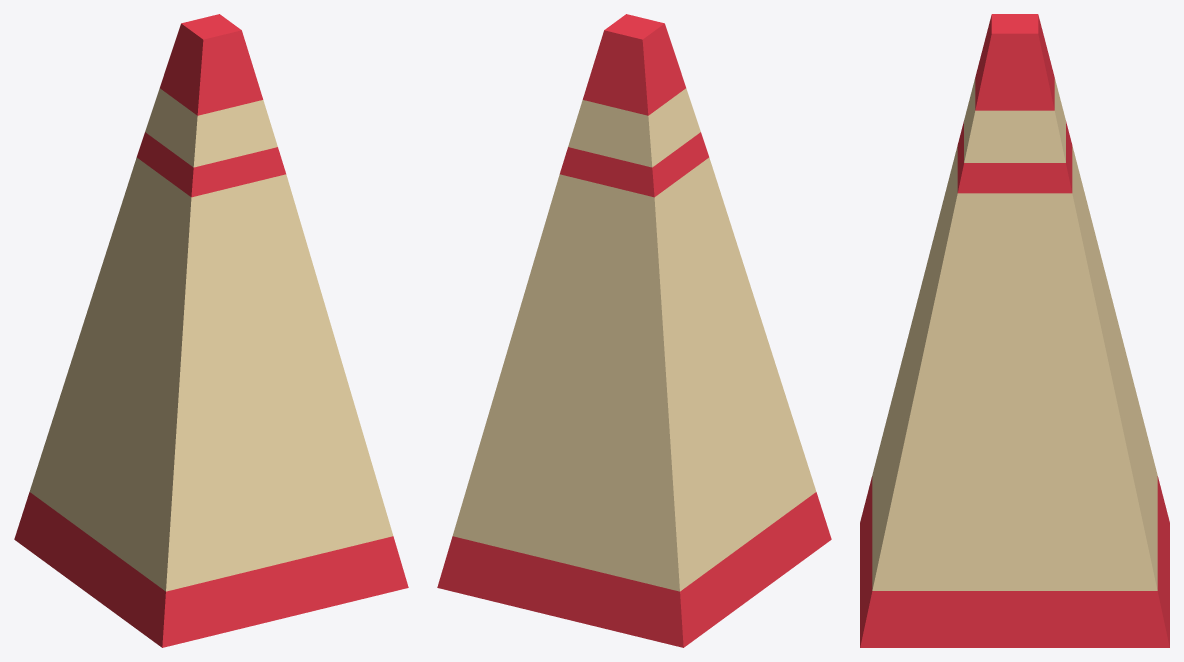
File: Triangle_2.fbx
The picture shows the model from 3 angles, left to right: view 1: azimuth 30°, elevation 25°; view 2: azimuth 150°, elevation 25°; view 3: azimuth 270°, elevation 25°; orthographic projection. The views are drawn at different scales.
Parts seen in each view (by area): view 1: Triangle_2; view 2: Triangle_2; view 3: Triangle_2.
Boxes of the visible parts, box(x1,y1,x2,y2) form: Triangle_2: box(14, 14, 408, 647); Triangle_2: box(437, 14, 831, 647); Triangle_2: box(860, 14, 1169, 647).
Bounding box in the file's own units: 192 × 400 × 200.
